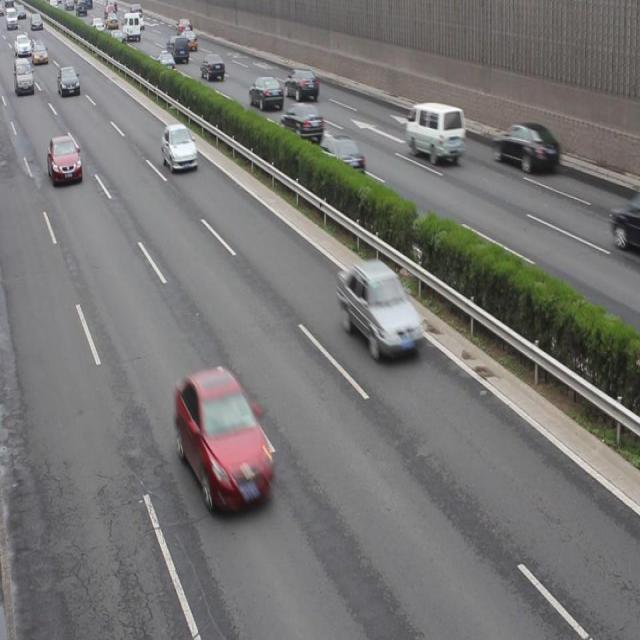car: (175, 369, 274, 509), (337, 260, 421, 356), (492, 120, 558, 173), (316, 135, 364, 177), (280, 100, 324, 141), (161, 126, 198, 173), (46, 134, 82, 182), (249, 76, 282, 109), (284, 68, 317, 100), (200, 53, 224, 81), (58, 68, 80, 96), (177, 27, 198, 50), (31, 39, 48, 65), (156, 50, 176, 72), (175, 18, 193, 38), (111, 28, 126, 47)
truck: (404, 101, 465, 163), (607, 201, 640, 252), (14, 59, 36, 94), (166, 34, 188, 62)
